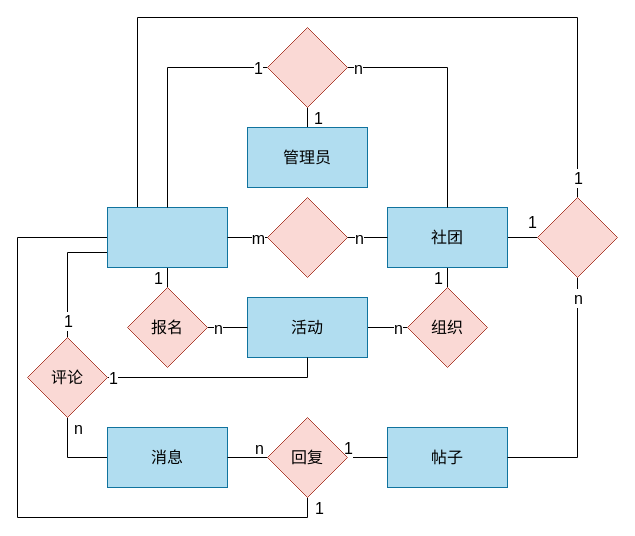
The diagram is 635 pixels wide and 536 high, and some of its shapes have lost their labels. Each missing label, with the centre of its shape:
创建 审核: pixel 307 67
加入: pixel 307 237
发布: pixel 577 237
学生: pixel 167 237
